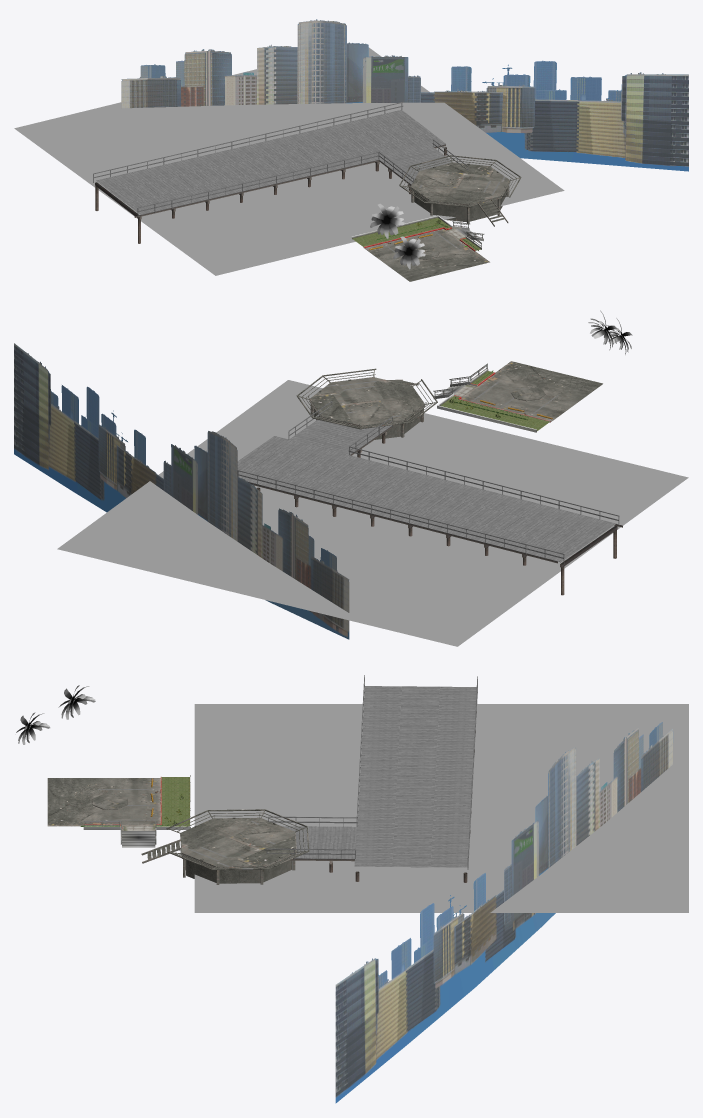
The model's file is gara.fbx.
3 views of the same model, one above another, from view 1: azimuth 30°, elevation 25°; view 2: azimuth 150°, elevation 25°; view 3: azimuth 270°, elevation 25° (orthographic). The views are drawn at different scales.
Parts seen in each view (by area): view 1: plane, back_pano, pier, polySurface54, polySurface55, menu_decor, Palm; view 2: plane, back_pano, pier, polySurface54, polySurface55, menu_decor, Palm; view 3: plane, back_pano, pier, polySurface54, polySurface55, menu_decor, Palm.
Boxes of the visible parts, box(x1,y1,x2,y2) form: plane: box(14, 43, 564, 275); back_pano: box(121, 19, 688, 171); pier: box(93, 102, 468, 243); polySurface54: box(399, 155, 521, 226); polySurface55: box(364, 229, 489, 281); menu_decor: box(351, 215, 484, 251); Palm: box(370, 203, 425, 269); plane: box(57, 380, 688, 646); back_pano: box(14, 343, 349, 639); pier: box(237, 401, 622, 595); polySurface54: box(296, 368, 437, 439); polySurface55: box(461, 361, 602, 421); menu_decor: box(433, 363, 552, 432); Palm: box(588, 310, 632, 354); plane: box(194, 704, 688, 912); back_pano: box(335, 722, 673, 1103); pier: box(266, 675, 477, 882); polySurface54: box(141, 809, 309, 884); polySurface55: box(47, 778, 161, 826); menu_decor: box(83, 775, 190, 847); Palm: box(16, 685, 95, 744).
Size of the model in its own units: 8081 by 2232 by 7105.
